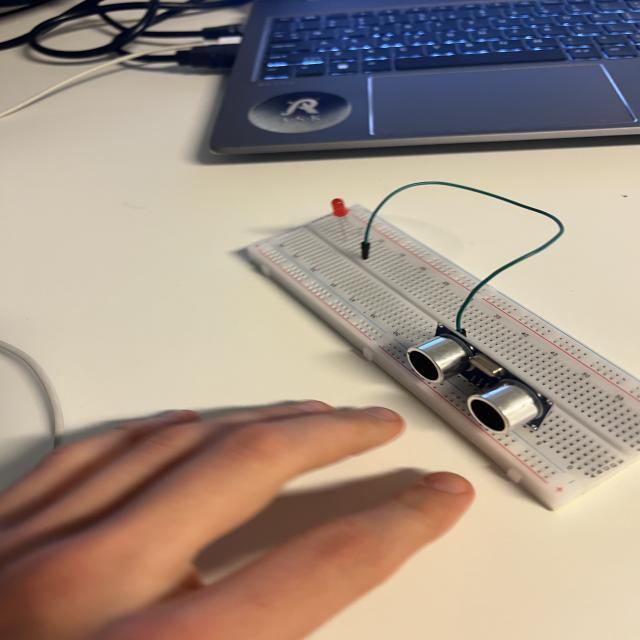BreadBoard: (246, 203, 636, 508)
REDLed: (327, 190, 354, 234)
UltrasoneSensor: (390, 313, 582, 448)
